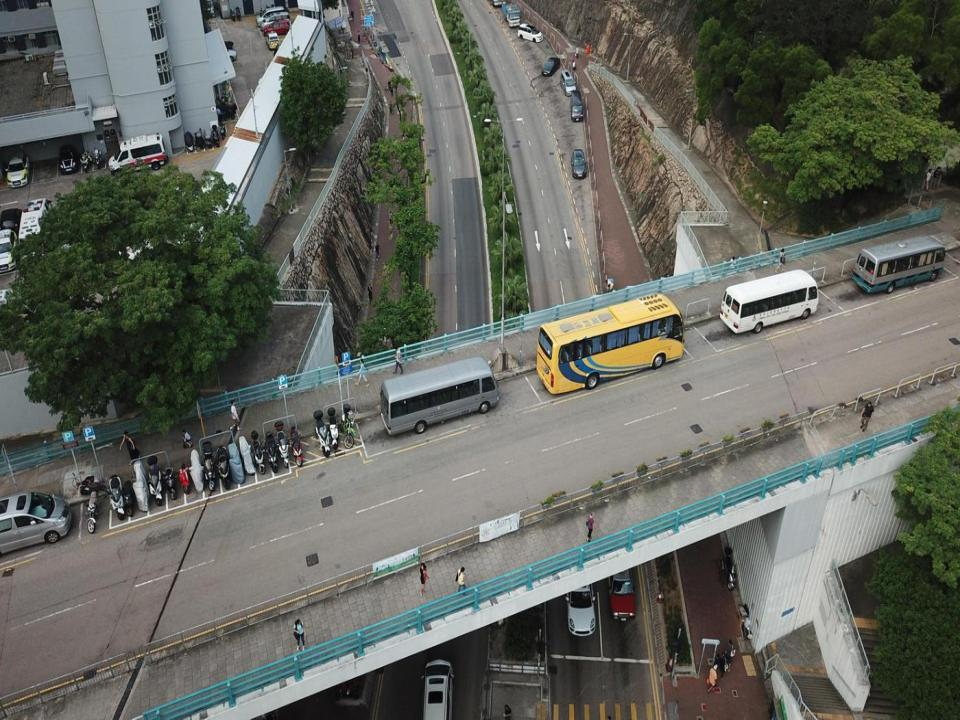bus: (538, 294, 684, 394), (381, 356, 499, 435), (718, 270, 820, 334), (852, 234, 945, 291)
car: (565, 561, 596, 638), (608, 550, 635, 622), (0, 228, 19, 275), (27, 198, 51, 233), (6, 153, 30, 187), (0, 205, 21, 243), (58, 144, 77, 174), (518, 23, 544, 44), (570, 148, 586, 181), (203, 48, 237, 63), (542, 54, 560, 78), (262, 19, 288, 35), (202, 40, 235, 50), (265, 29, 279, 50)
truck: (503, 3, 521, 26)
van: (0, 492, 72, 556), (422, 659, 454, 719), (256, 5, 284, 25), (260, 12, 289, 30), (571, 88, 584, 124), (562, 69, 576, 96)
